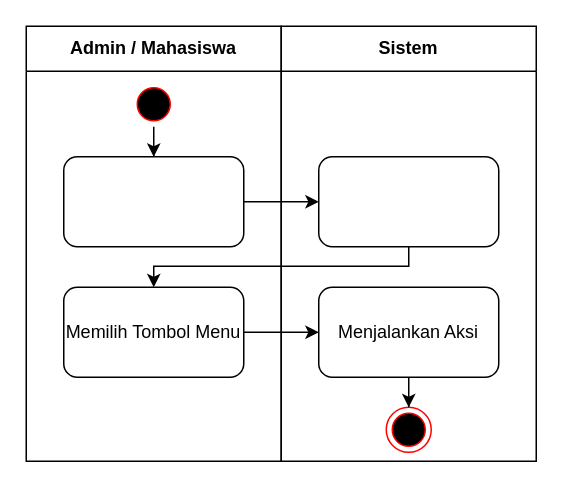
Some shapes in this 563 by 488 pixel diagram are drawn without their labels. The centre of each missing label's shape, as x and y in pixels:
"Membuka Aplikasi" goes at (153,201).
"Menampilkan scene Main Menu" goes at (408,201).
